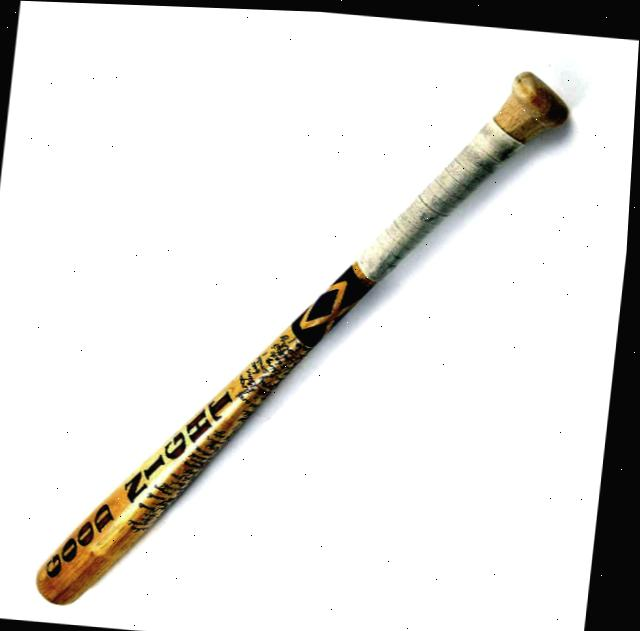baseball bat: (23, 12, 587, 631)
